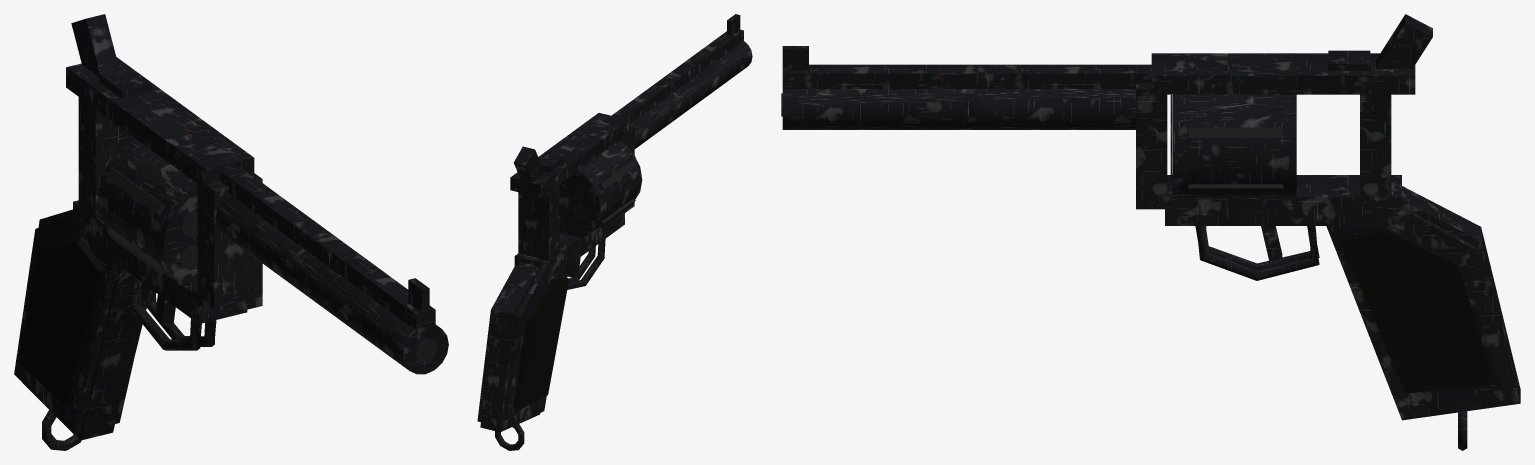
File: webley.glb
The picture shows the model from 3 angles, left to right: view 1: azimuth 30°, elevation 25°; view 2: azimuth 150°, elevation 25°; view 3: azimuth 270°, elevation 25°; orthographic projection. The views are drawn at different scales.
Parts seen in each view (by area): view 1: Webley_MkVI; view 2: Webley_MkVI; view 3: Webley_MkVI.
Boxes of the visible parts, x1,y1,x2,y2 form: Webley_MkVI: (14, 14, 448, 450); Webley_MkVI: (477, 14, 752, 450); Webley_MkVI: (781, 14, 1520, 450).
Bounding box in the file's own units: 0.046 × 0.1803 × 0.2805.
Materials: 3 (2 with a texture image).
